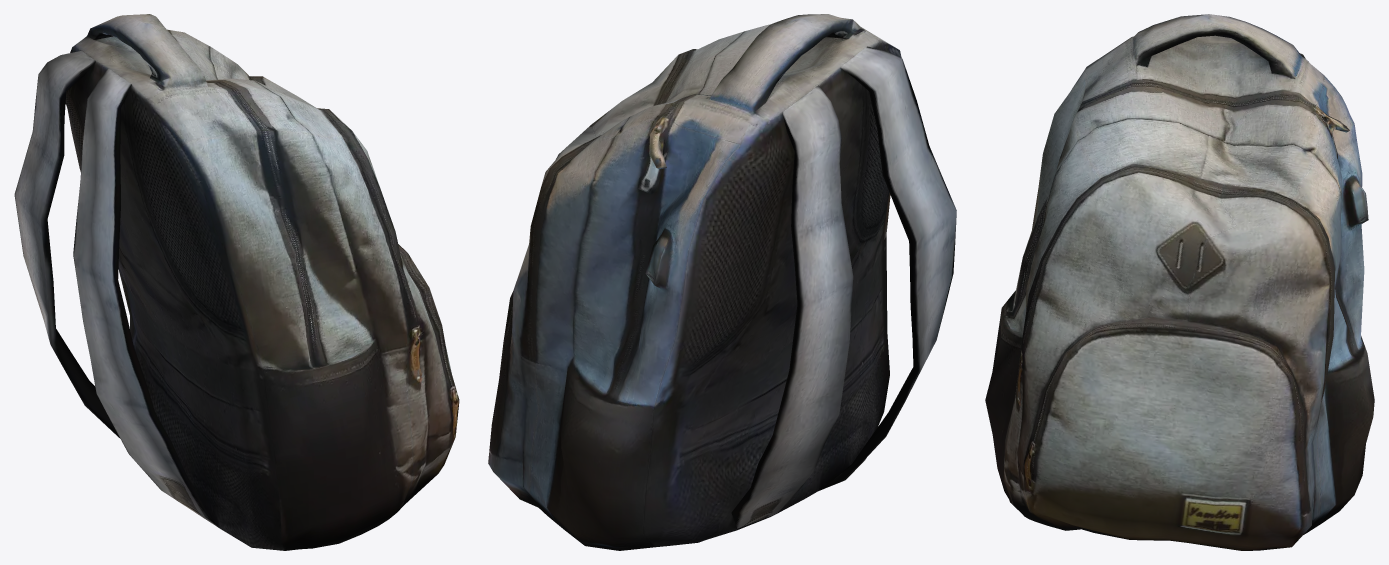
Rendered from bag.glb.
The picture shows the model from 3 angles, left to right: view 1: azimuth 30°, elevation 25°; view 2: azimuth 150°, elevation 25°; view 3: azimuth 270°, elevation 25°; orthographic projection. The views are drawn at different scales.
Visible parts, largest first — view 1: backback; view 2: backback; view 3: backback.
Part boxes in pixels (<box>): backback: <box>14,14,459,550</box>; backback: <box>488,14,956,550</box>; backback: <box>985,14,1374,550</box>.
Bounding box in the file's own units: 0.4487 × 0.5975 × 0.4694.
1 material, 1 textured.
